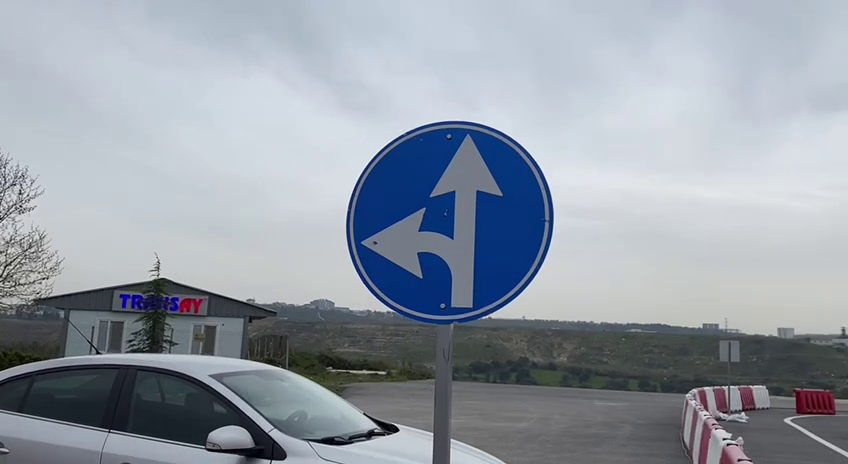forwardAndLeft: (340, 114, 557, 328)
